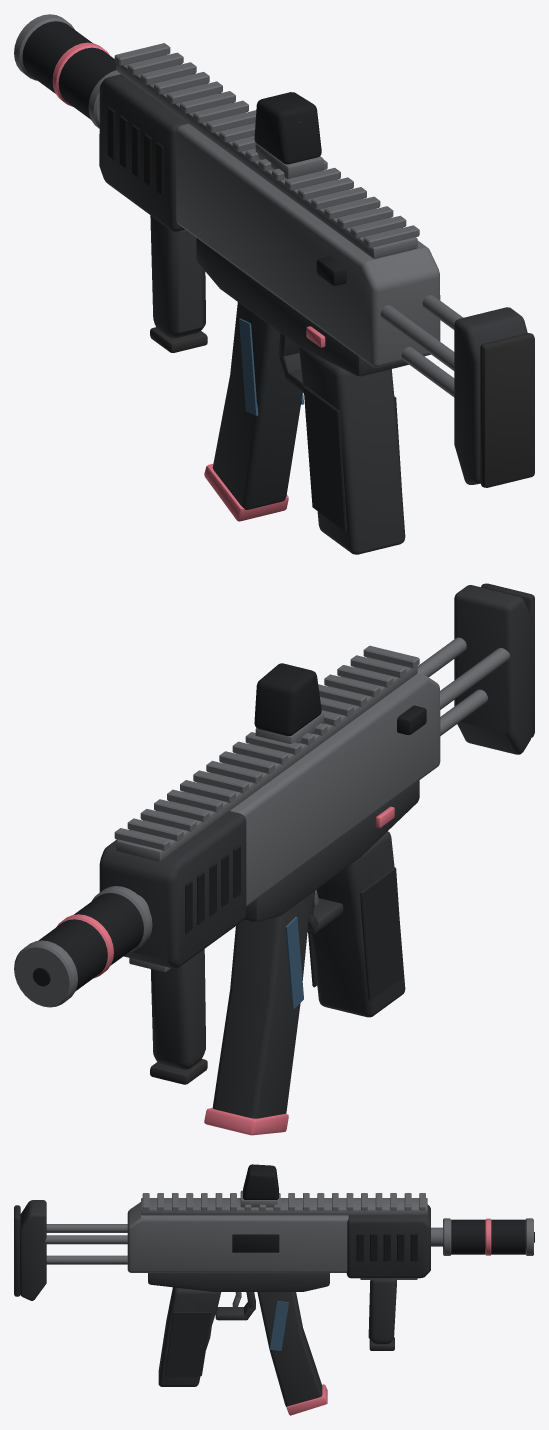
The model's file is SedativeSMG.fbx.
3 views of the same model, one above another, from view 1: azimuth 30°, elevation 25°; view 2: azimuth 150°, elevation 25°; view 3: azimuth 270°, elevation 25° (orthographic). The views are drawn at different scales.
Parts seen in each view (by area): view 1: Upper Receiver, Pistol Grip, Magazine, Butt Pad, Handguard, Butt Plate, Foregrip, Lower Receiver, Suppressor Body, Grip Texture Panel -1, Top Rail Base, Red Dot Housing (+24 smaller); view 2: Upper Receiver, Magazine, Handguard, Butt Plate, Pistol Grip, Foregrip, Lower Receiver, Suppressor Body, Grip Texture Panel -1, Top Rail Base, Red Dot Housing, Suppressor End Cap (+25 smaller); view 3: Upper Receiver, Handguard, Magazine, Top Rail Base, Lower Receiver, Suppressor Body, Butt Plate, Grip Texture Panel 1, Pistol Grip, Foregrip, Red Dot Housing, Ejection Port (+9 smaller).
Part boxes in pixels (x1=…): Upper Receiver: x1=176, y1=123, x2=440, y2=367; Pistol Grip: x1=299, y1=347, x2=405, y2=554; Magazine: x1=212, y1=302, x2=302, y2=509; Butt Pad: x1=480, y1=333, x2=534, y2=487; Handguard: x1=99, y1=64, x2=233, y2=231; Butt Plate: x1=454, y1=307, x2=527, y2=484; Foregrip: x1=150, y1=215, x2=205, y2=338; Lower Receiver: x1=196, y1=238, x2=408, y2=376; Suppressor Body: x1=22, y1=21, x2=116, y2=119; Grip Texture Panel -1: x1=303, y1=386, x2=346, y2=531; Top Rail Base: x1=116, y1=54, x2=417, y2=258; Red Dot Housing: x1=254, y1=92, x2=321, y2=164; Upper Receiver: x1=230, y1=673, x2=440, y2=906; Magazine: x1=212, y1=894, x2=311, y2=1118; Handguard: x1=99, y1=801, x2=246, y2=968; Butt Plate: x1=454, y1=585, x2=532, y2=754; Pistol Grip: x1=310, y1=831, x2=405, y2=1017; Foregrip: x1=150, y1=949, x2=205, y2=1069; Lower Receiver: x1=244, y1=780, x2=419, y2=922; Suppressor Body: x1=38, y1=893, x2=143, y2=991; Grip Texture Panel -1: x1=360, y1=867, x2=403, y2=1000; Top Rail Base: x1=116, y1=657, x2=417, y2=861; Red Dot Housing: x1=254, y1=663, x2=321, y2=736; Suppressor End Cap: x1=14, y1=940, x2=77, y2=1007; Upper Receiver: x1=127, y1=1202, x2=348, y2=1272; Handguard: x1=346, y1=1204, x2=430, y2=1278; Magazine: x1=257, y1=1292, x2=322, y2=1406; Top Rail Base: x1=141, y1=1198, x2=427, y2=1215; Lower Receiver: x1=148, y1=1273, x2=329, y2=1291; Suppressor Body: x1=451, y1=1219, x2=525, y2=1254; Butt Plate: x1=20, y1=1200, x2=46, y2=1300; Grip Texture Panel 1: x1=165, y1=1312, x2=211, y2=1376; Pistol Grip: x1=158, y1=1287, x2=221, y2=1386; Foregrip: x1=368, y1=1280, x2=396, y2=1344; Red Dot Housing: x1=243, y1=1164, x2=278, y2=1199; Ejection Port: x1=232, y1=1234, x2=279, y2=1252.
Size of the model in its own units: 0.1655 by 0.7877 by 1.54.
